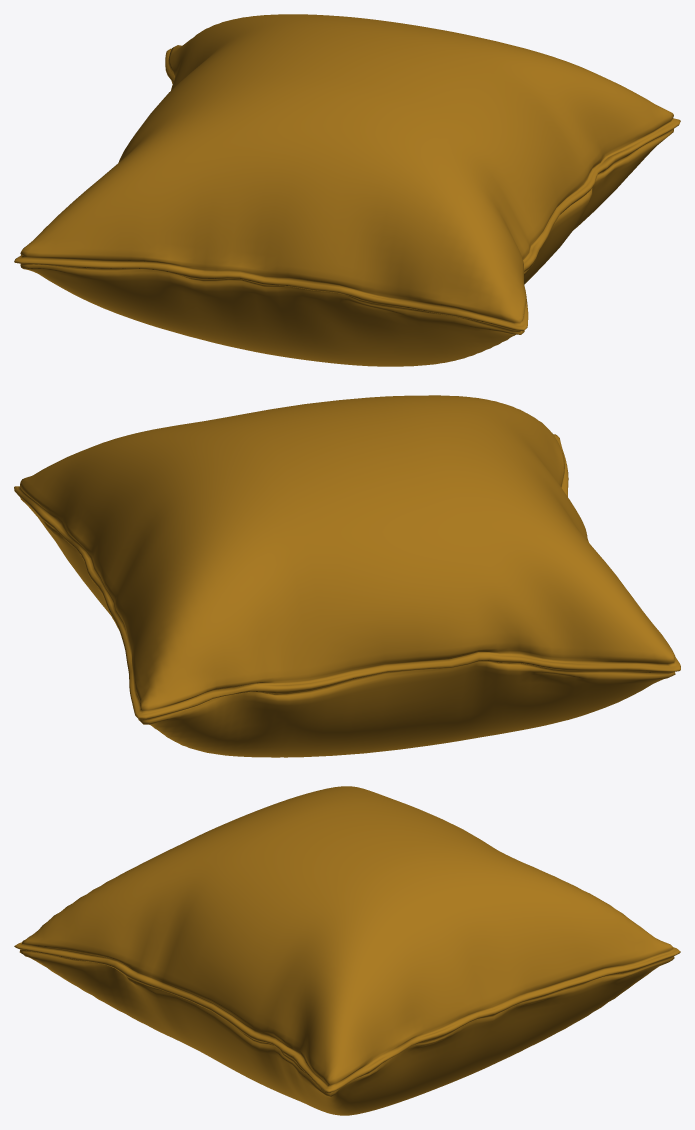
Rendered from AslanHouse_Pillow1.fbx.
The picture shows the model from 3 angles, top to bottom: view 1: azimuth 30°, elevation 25°; view 2: azimuth 150°, elevation 25°; view 3: azimuth 270°, elevation 25°; orthographic projection. The views are drawn at different scales.
Visible parts, largest first — view 1: Pillow.002; view 2: Pillow.002; view 3: Pillow.002.
Boxes of the visible parts, bbox=[...] form: Pillow.002: bbox=[14, 14, 680, 366]; Pillow.002: bbox=[14, 395, 680, 757]; Pillow.002: bbox=[14, 786, 680, 1115].
Bounding box in the file's own units: 117 × 46.19 × 117.
1 material, 1 textured.
